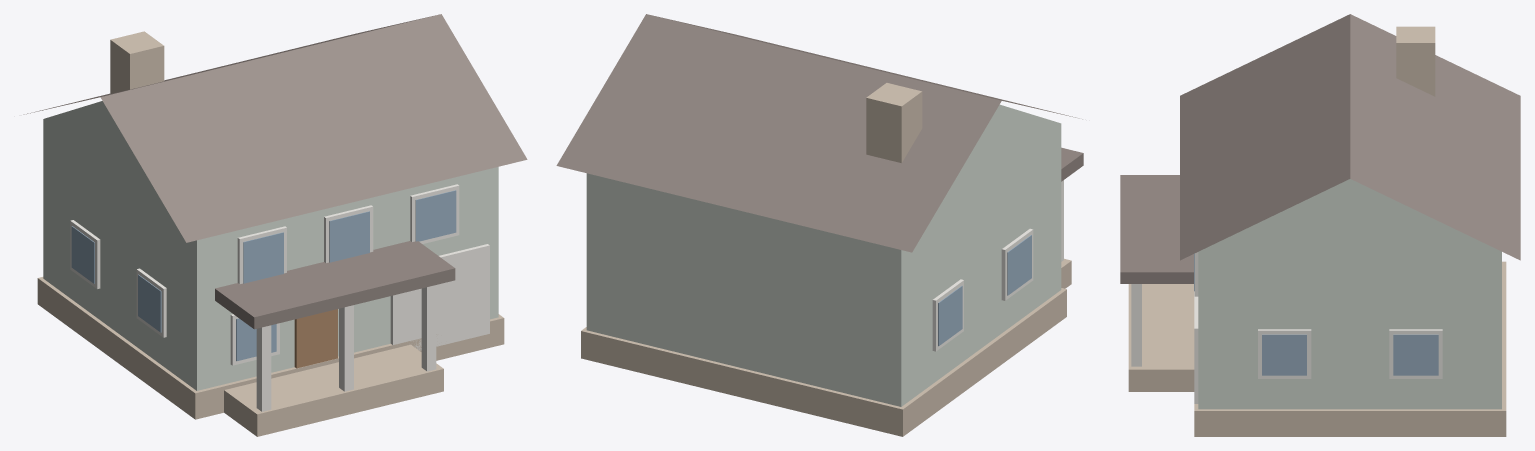
Rendered from bldg_suburban_house.glb.
3 renders of one model, left to right at view 1: azimuth 30°, elevation 25°; view 2: azimuth 150°, elevation 25°; view 3: azimuth 270°, elevation 25°, orthographic. The views are drawn at different scales.
Visible parts, largest first — view 1: bldg_suburban_house; view 2: bldg_suburban_house; view 3: bldg_suburban_house.
Boxes of the visible parts, x1,y1,x2,y2 form: bldg_suburban_house: [23, 14, 527, 436]; bldg_suburban_house: [556, 14, 1083, 436]; bldg_suburban_house: [1120, 14, 1520, 436].
Bounding box in the file's own units: 9.5 × 7.5 × 9.75.
